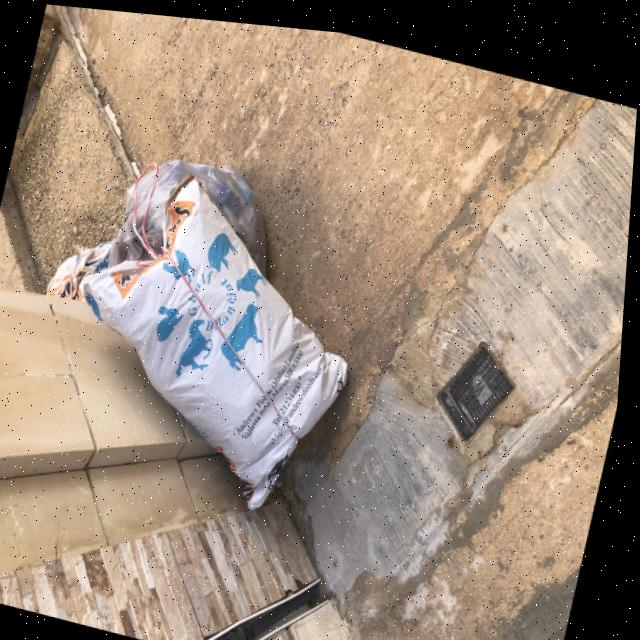Other: (43, 141, 393, 528), (46, 220, 131, 314)
Recycled Waste -Grey or Green Bag-: (108, 131, 298, 308)
